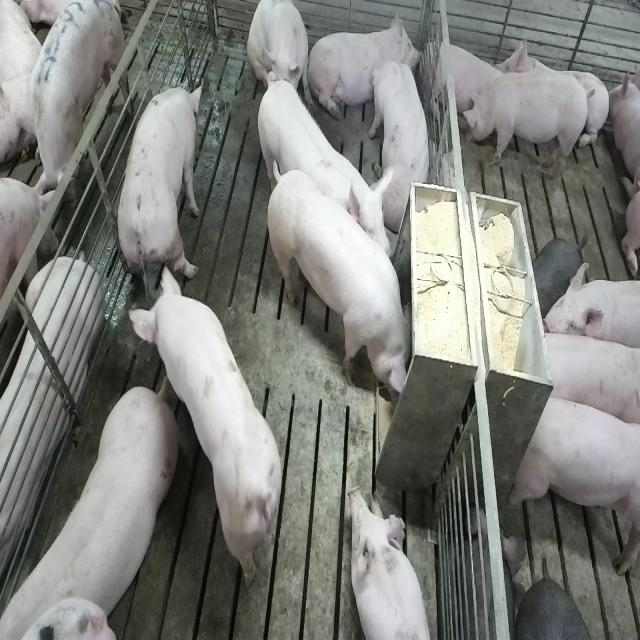Feeding: (271, 169, 421, 403)
Sitting: (372, 54, 434, 229), (248, 1, 312, 111)
Standing: (132, 270, 288, 598), (5, 377, 182, 635), (253, 74, 388, 268), (513, 386, 639, 581), (23, 0, 124, 215), (116, 79, 205, 297), (460, 68, 587, 178), (537, 330, 638, 430), (540, 268, 640, 356)
Sternal_lying: (499, 27, 608, 151), (348, 486, 433, 640), (312, 11, 422, 122), (427, 35, 501, 126)
